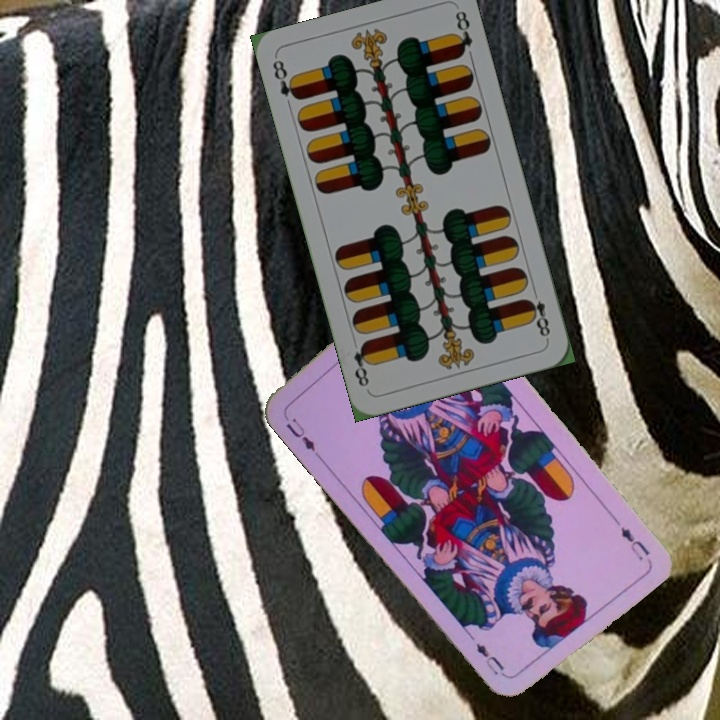E8: (522, 284, 553, 343), (268, 55, 303, 103)
EU: (279, 407, 318, 454), (616, 522, 653, 563)
